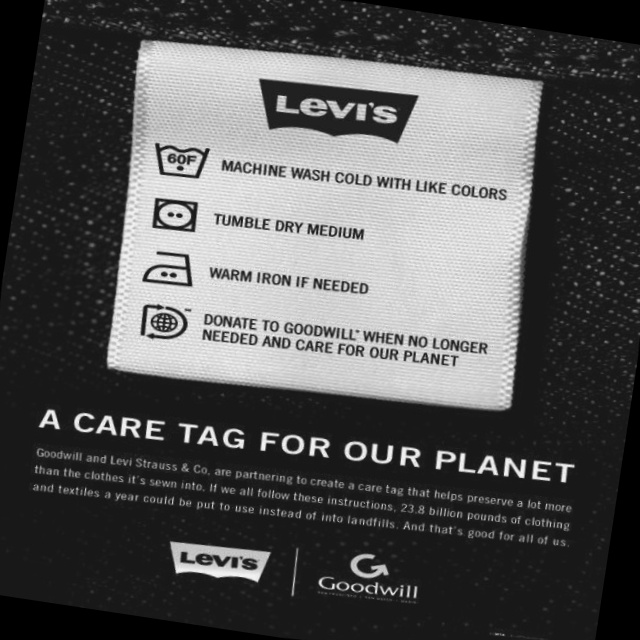30C: (148, 131, 216, 187)
iron_medium: (138, 242, 203, 295)
tumble_dry_medium: (145, 192, 206, 240)
